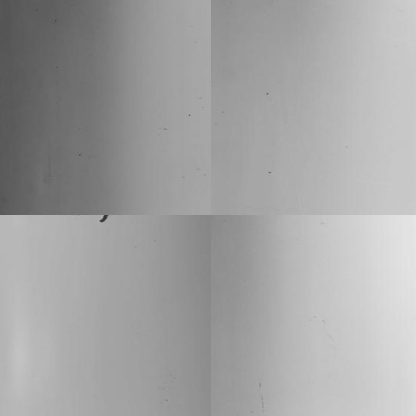kongdong: (94, 214, 110, 225)
